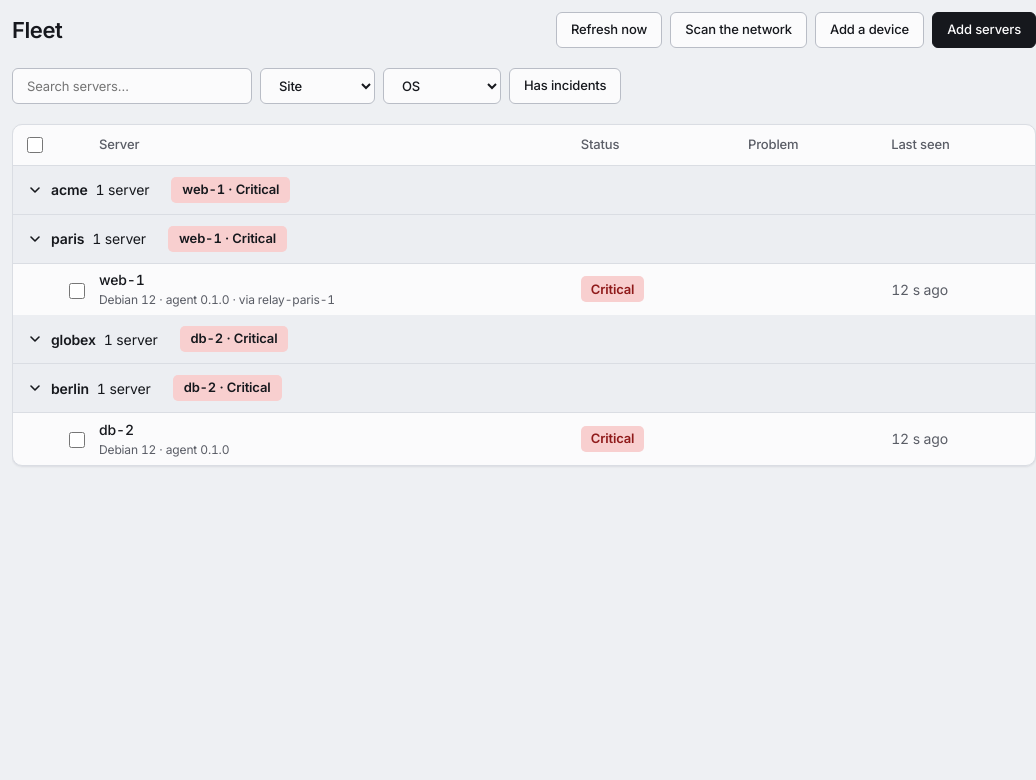
it: FleetOverview › administration of the checked servers › keeps a maintenance window to one site
Click the checkbox named "Select every row shown": (35, 146) x1=27 y1=138 x2=43 y2=154
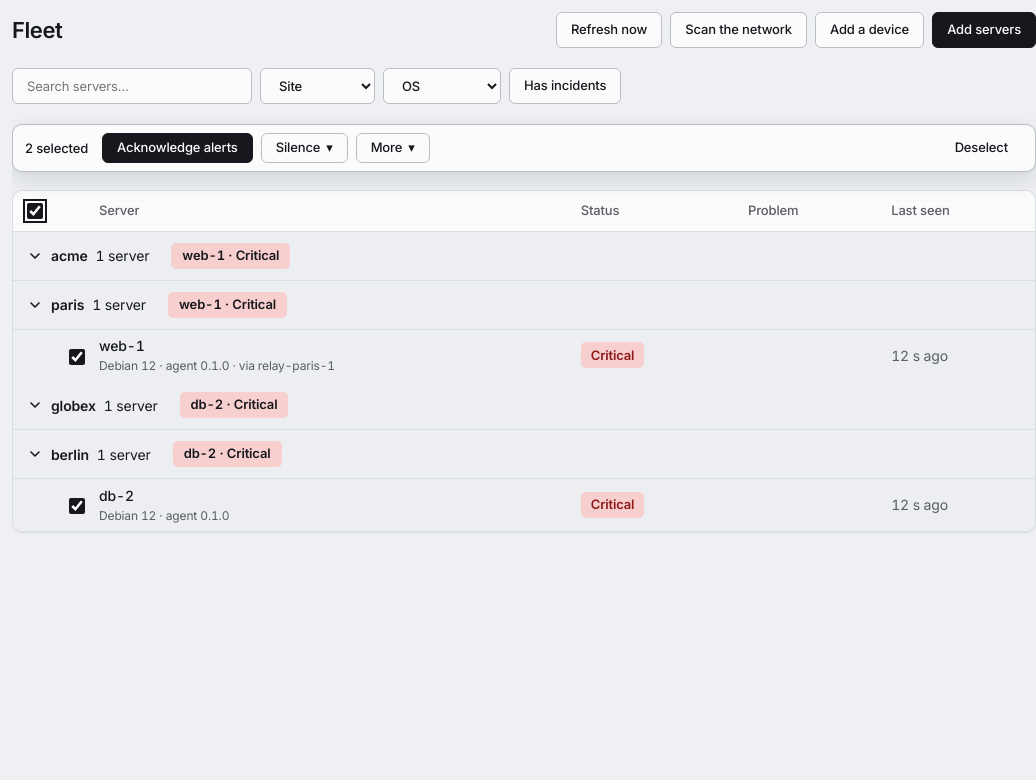
Click the button "More ▾": (393, 148) x1=356 y1=133 x2=430 y2=163
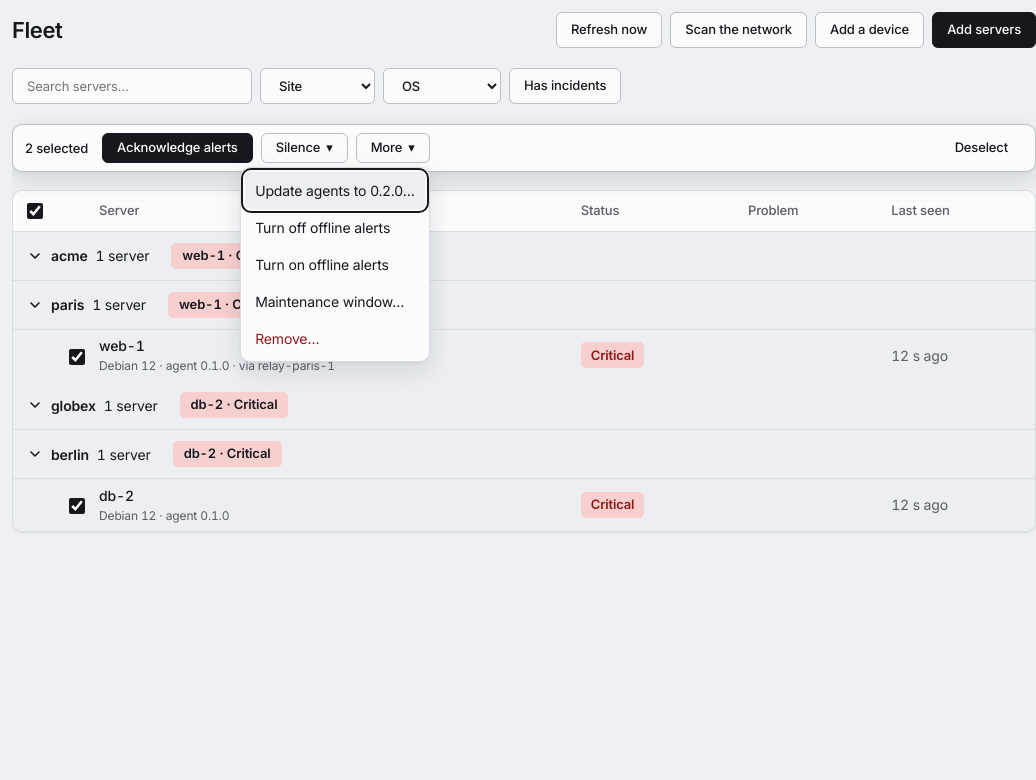
Click the menu item "Maintenance window…": (335, 302) x1=245 y1=283 x2=425 y2=320
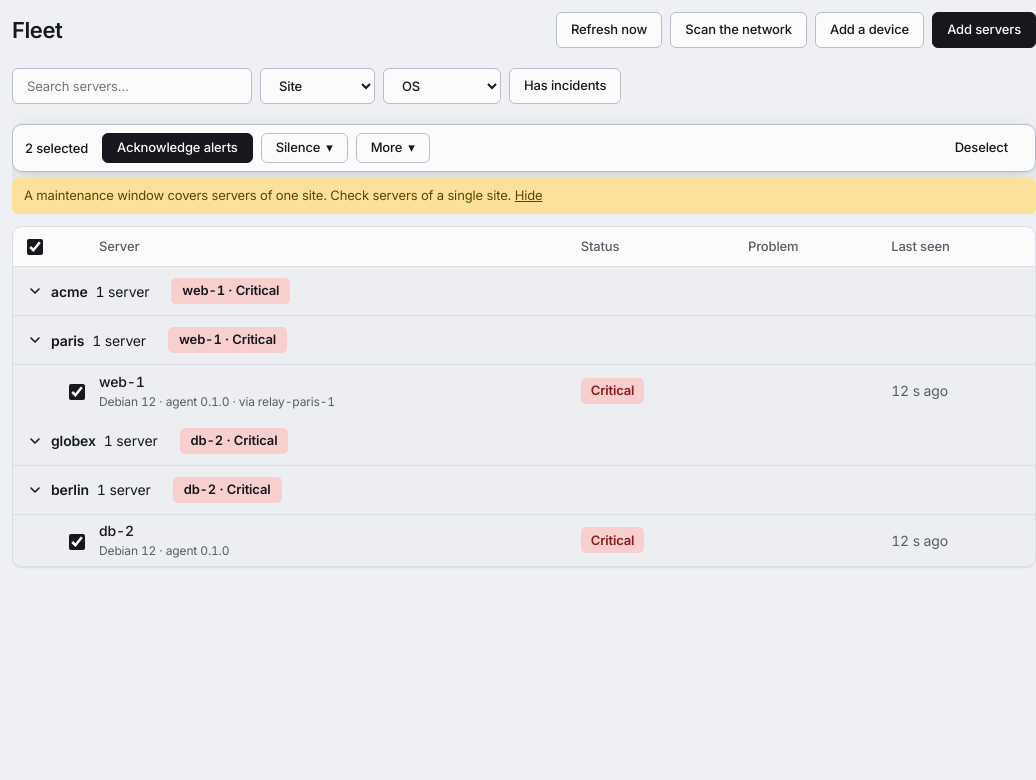
Now the message shows "A maintenance window covers servers of one site.", box x1=24 y1=187 x2=511 y2=203
